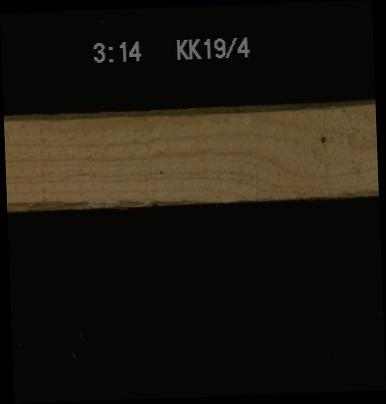small_knot: (317, 131, 327, 145)
